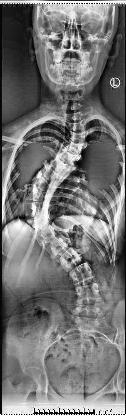Vertebrae: (73, 284, 107, 304), (70, 263, 96, 287), (58, 249, 84, 272), (40, 164, 64, 188), (46, 236, 70, 258), (31, 177, 57, 196), (27, 188, 56, 204), (70, 315, 102, 329), (52, 158, 72, 180), (26, 203, 52, 219), (58, 150, 84, 166), (70, 302, 104, 314), (38, 224, 58, 244), (28, 216, 56, 230), (68, 140, 89, 154), (69, 119, 91, 132), (70, 132, 92, 144)
